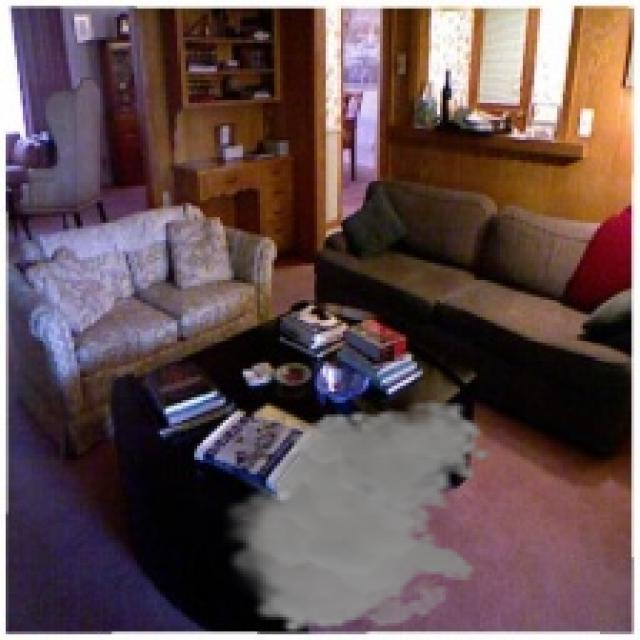smoke: (217, 400, 492, 634)
